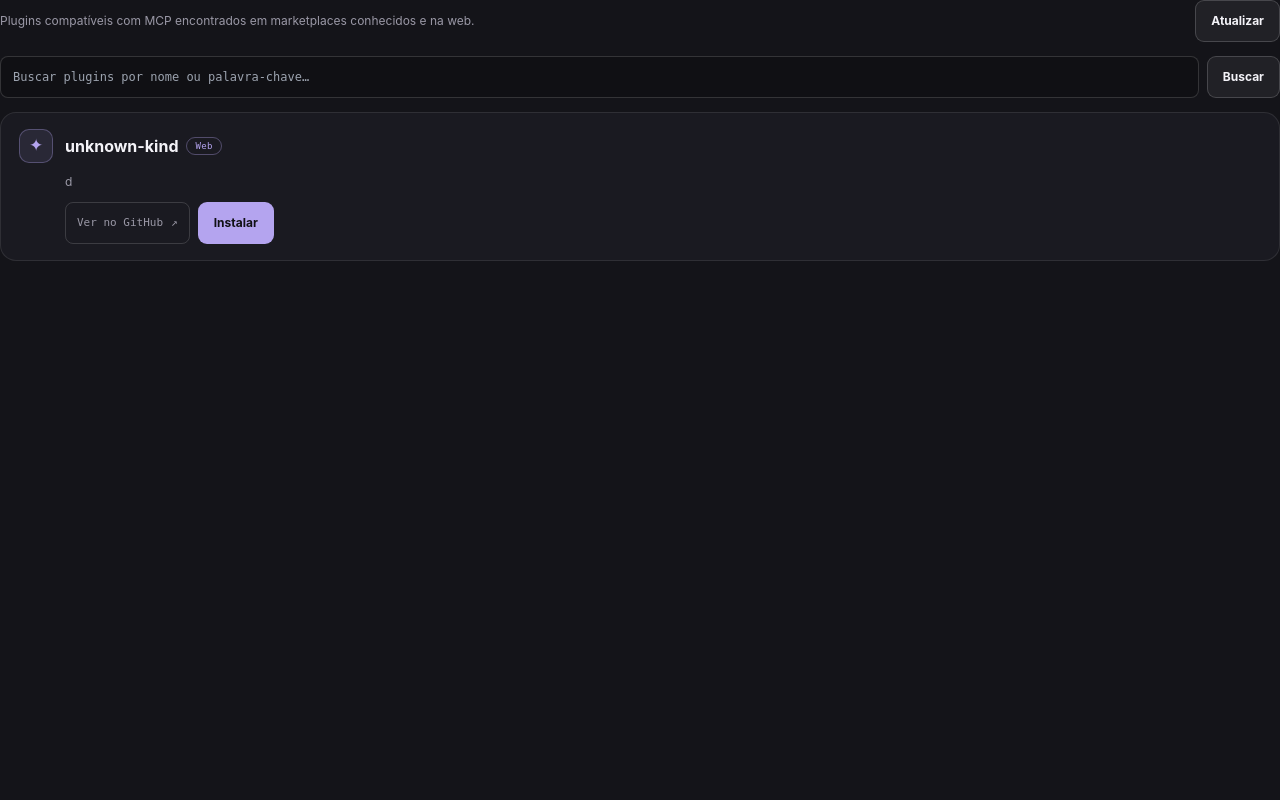
Test: falls back to the MCP dialog when an unknown-kind entry turns out to have no manifest
This screenshot has width=1280, height=800.
Click the button "Instalar" at (236, 223), box top-left (198, 202), bottom-right (274, 244)
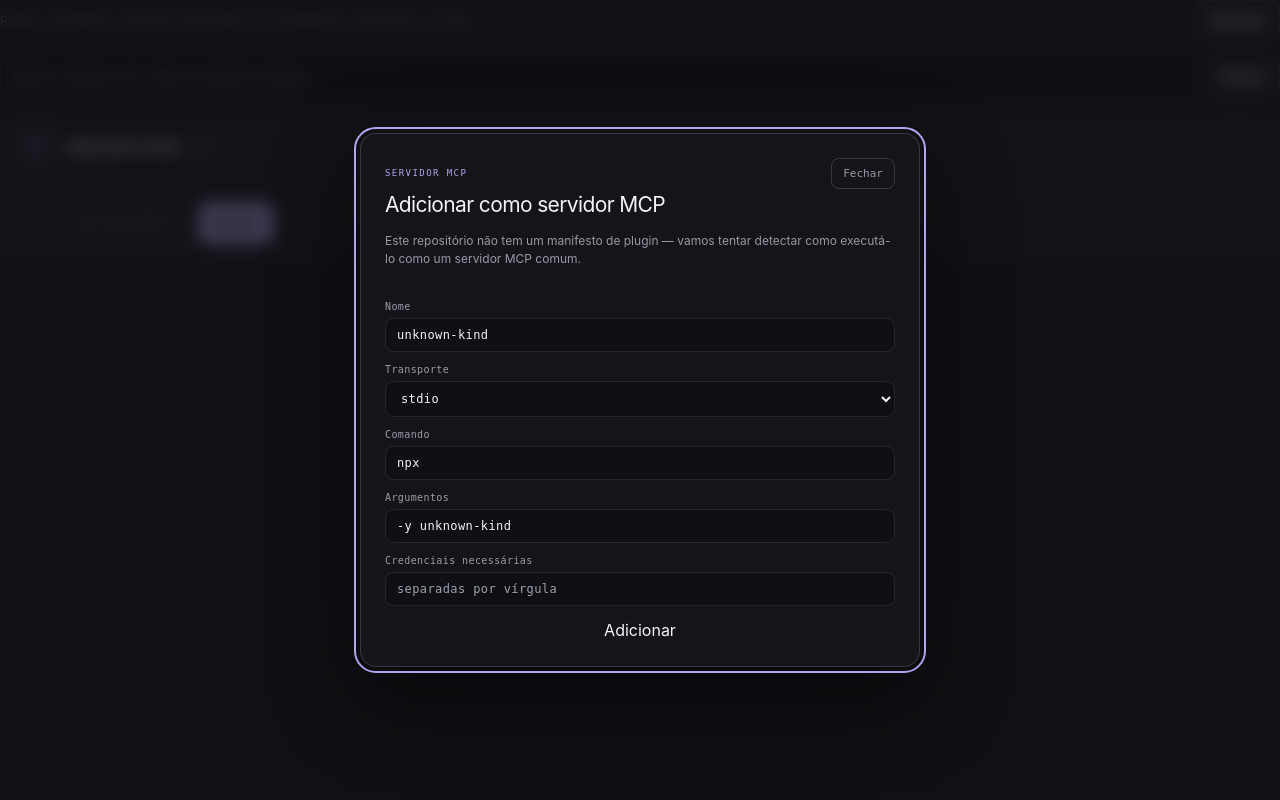
Check: the heading "Adicionar como servidor MCP" is shown, box top-left (385, 189), bottom-right (665, 221)
